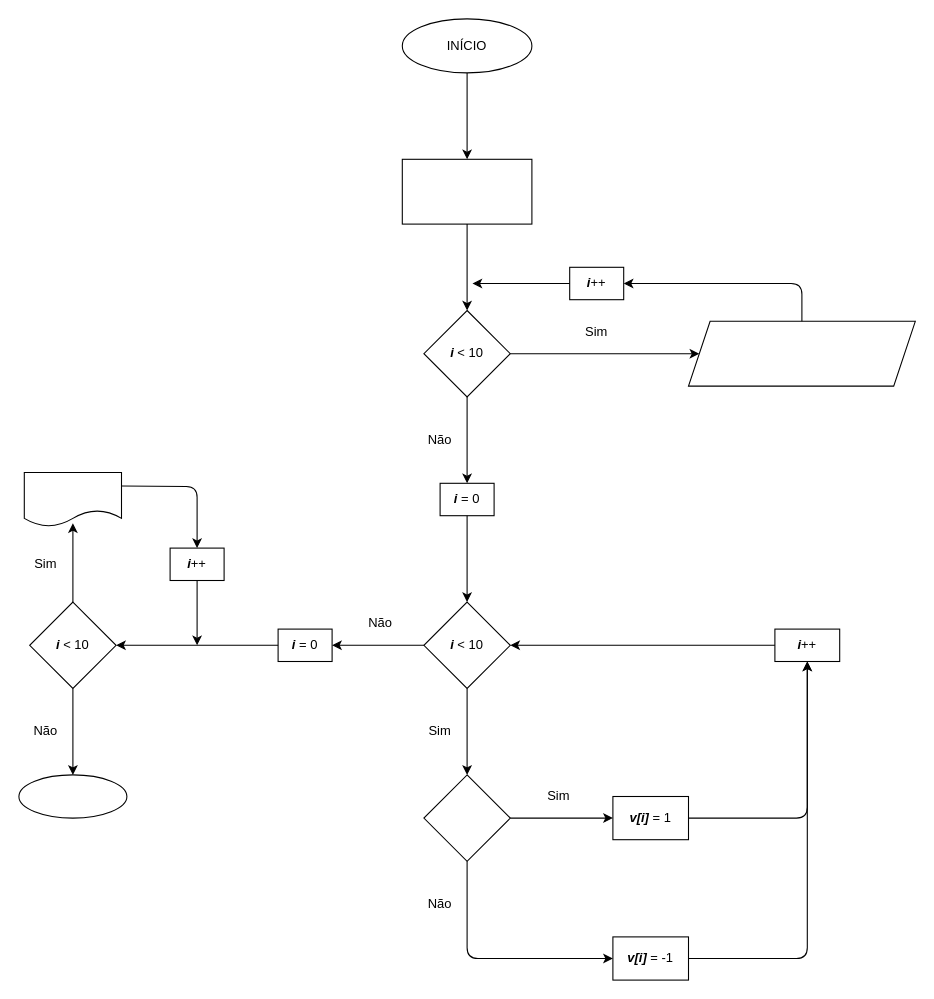
This 934x999 diagram has some shape labels left out. The shapes that lost their labels are listed below. From the top down, each one's centre as x and y in pixels, then its label:
At point (466, 191): "inteiro v[10] , i =0".
At point (801, 353): "Recebe valor para a variável v[i]".
At point (72, 498): "Mostra v[i]".
At point (72, 796): "FIM".
At point (466, 817): "v[i] % 2 = 0".
